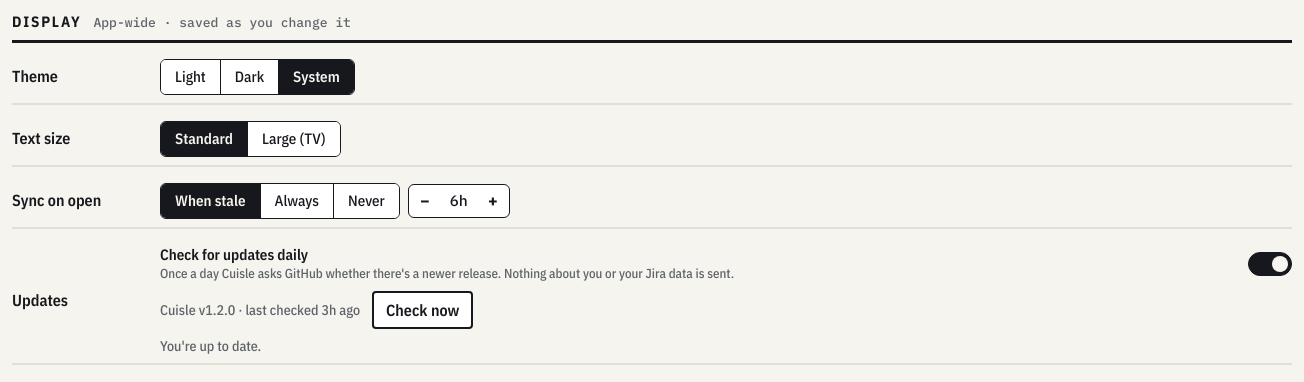
Test: Display: Updates › shows a Check now failure as an alert
Click the button "Check now". click: (423, 310)
box: [372,291,473,329]
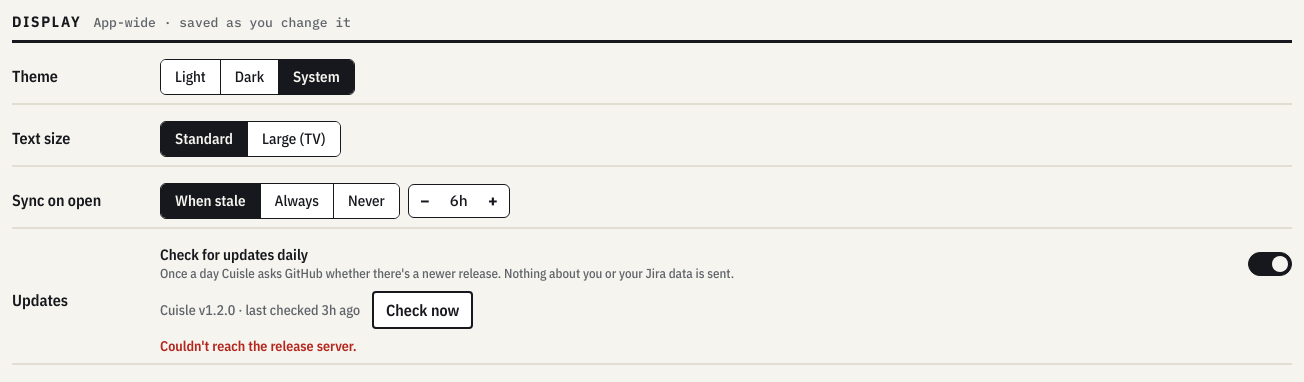
Expected: the text "Couldn't reach the release server." has attribute data-alert="true", [160,337,356,355]
